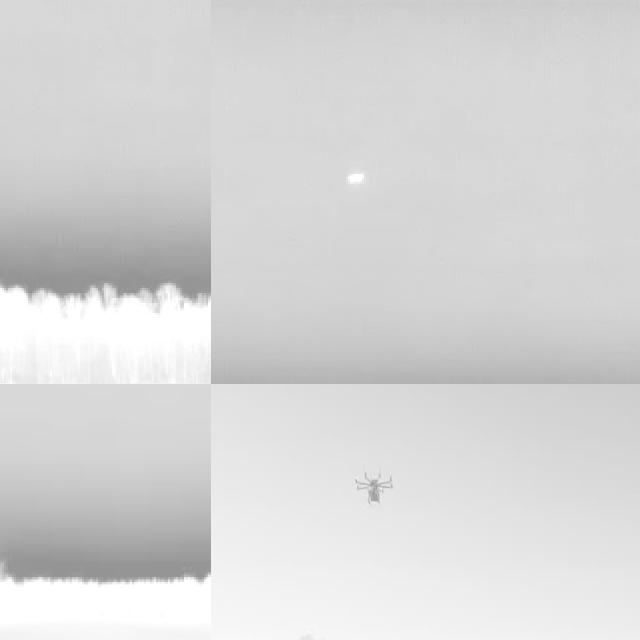1: (337, 167, 373, 199)
drone: (348, 464, 398, 508)
